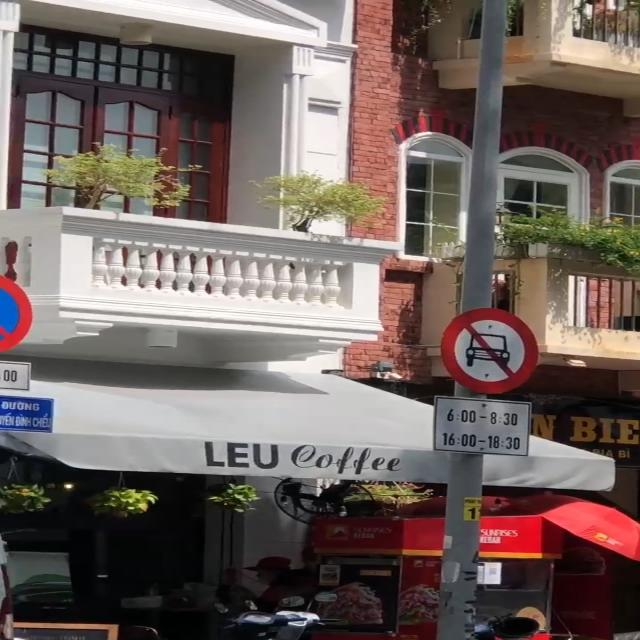Bien bao cam xe oto: (428, 296, 546, 398)
